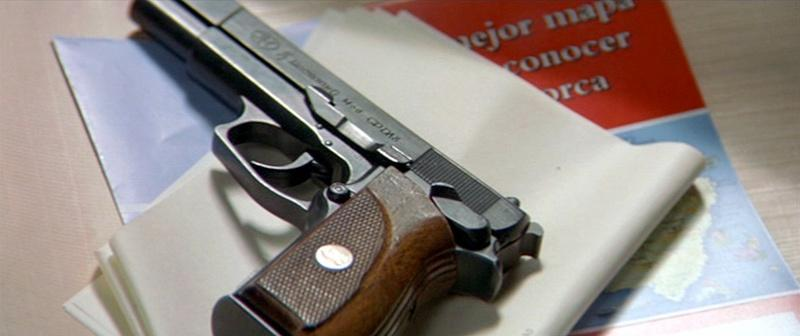gun: (126, 0, 542, 332)
